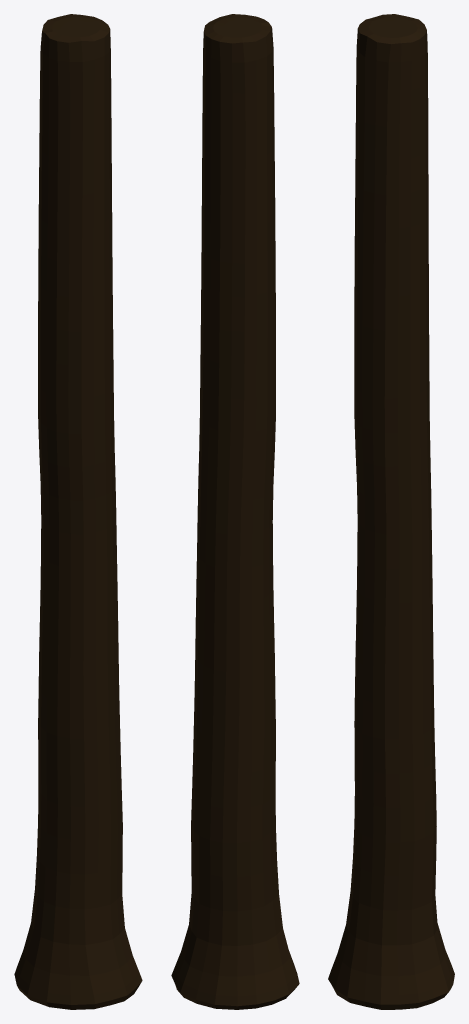
Rendered from TrunkLarge.glb.
3 views of the same model, side by side, from view 1: azimuth 30°, elevation 25°; view 2: azimuth 210°, elevation 25°; view 3: azimuth 330°, elevation 25° (orthographic).
Parts seen in each view (by area): view 1: Retopo_GROS TRONC.001; view 2: Retopo_GROS TRONC.001; view 3: Retopo_GROS TRONC.001.
Boxes of the visible parts, x1,y1,x2,y2 form: Retopo_GROS TRONC.001: (14,14,142,1009); Retopo_GROS TRONC.001: (171,14,299,1009); Retopo_GROS TRONC.001: (328,14,454,1009).
Size of the model in its own units: 13.56 by 112 by 13.2.
1 material, 1 textured.
